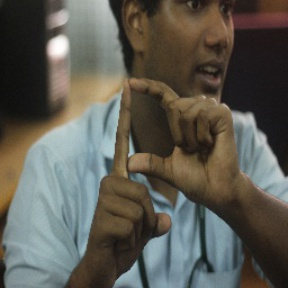D: (94, 71, 205, 204)
